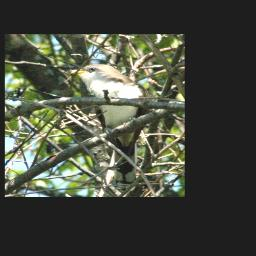Cuckoo: (63, 64, 152, 190)
